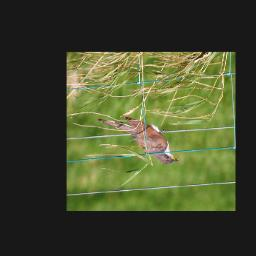Cuckoo: (96, 111, 180, 167)
